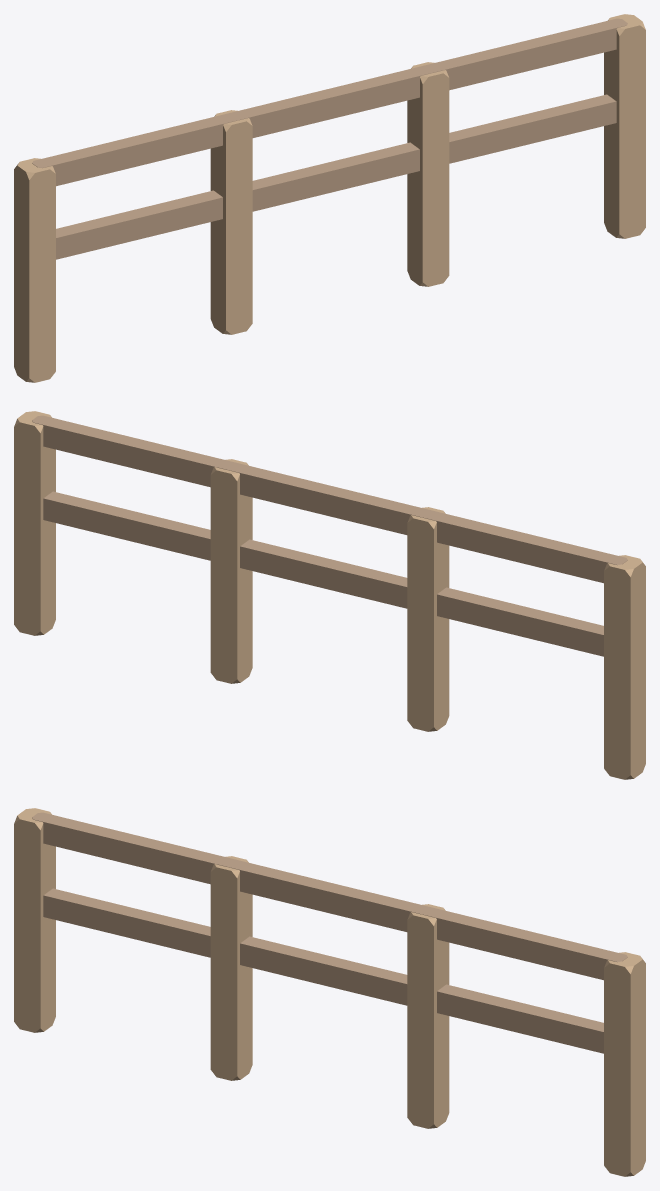
File: fence.glb
3 views of the same model, one above another, from view 1: azimuth 30°, elevation 25°; view 2: azimuth 150°, elevation 25°; view 3: azimuth 330°, elevation 25° (orthographic).
Parts seen in each view (by area): view 1: root_m5, root_m4, root_m3, root_m1, root_m2, root_m0; view 2: root_m5, root_m4, root_m3, root_m1, root_m2, root_m0; view 3: root_m5, root_m4, root_m0, root_m2, root_m1, root_m3.
Part boxes in pixels (x1,y1,x2,y2): root_m5: (32, 18, 627, 186); root_m4: (56, 94, 616, 259); root_m3: (14, 158, 55, 382); root_m1: (407, 62, 449, 286); root_m2: (210, 110, 252, 334); root_m0: (604, 14, 645, 238); root_m5: (32, 415, 627, 583); root_m4: (43, 491, 603, 656); root_m3: (604, 555, 645, 779); root_m1: (210, 459, 252, 683); root_m2: (407, 507, 449, 731); root_m0: (14, 411, 55, 635); root_m5: (32, 812, 627, 980); root_m4: (43, 888, 603, 1053); root_m0: (604, 952, 645, 1176); root_m2: (210, 856, 252, 1080); root_m1: (407, 904, 449, 1128); root_m3: (14, 808, 55, 1032).
Bounding box in the file's own units: 2.09 × 0.681 × 0.09.
